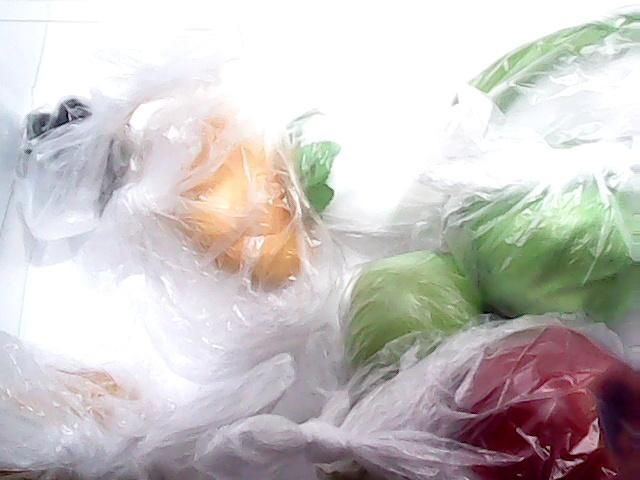apple: (388, 300, 640, 480), (320, 253, 496, 375)
cabbage: (440, 141, 640, 323)
grape: (21, 76, 135, 220)
lemon: (146, 104, 302, 298)
pepper: (452, 10, 640, 134)
potato: (0, 358, 144, 478)
radish: (278, 91, 484, 245)
